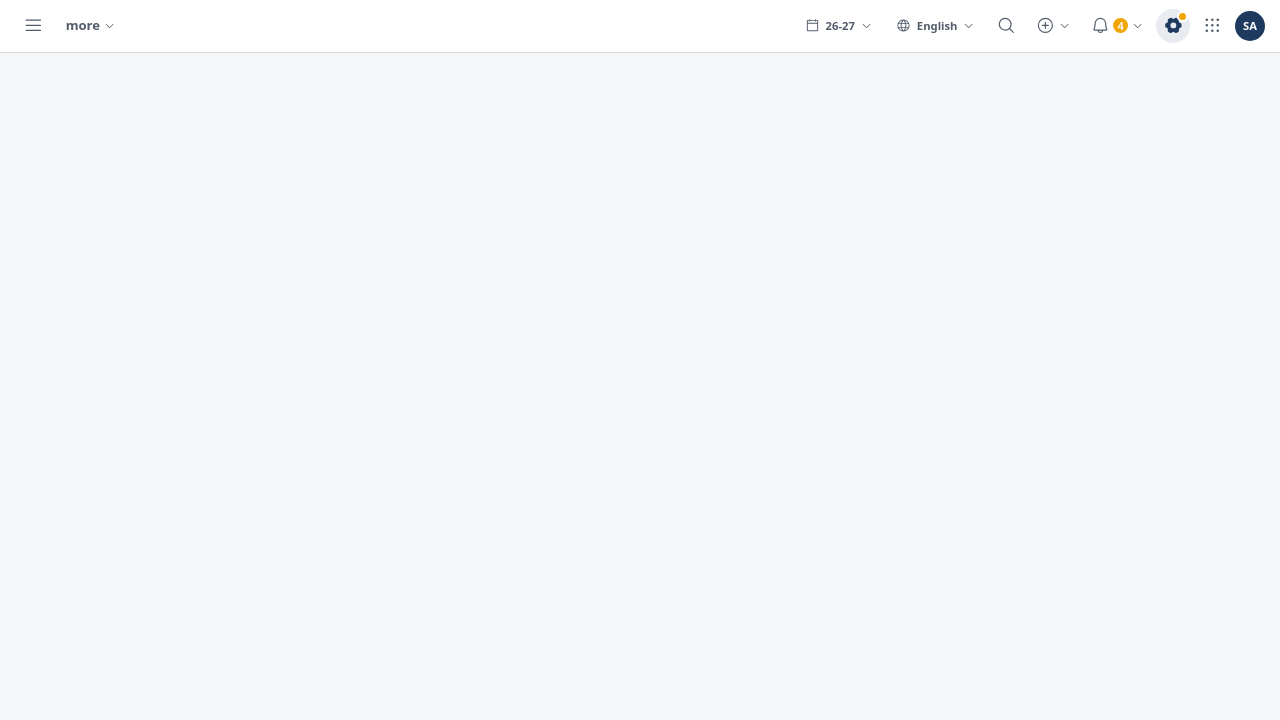
Scenario: Navbar › opens search dialog on quick search button click
Click the button named "Quick search" at (1006, 26), box [989,9,1023,43]
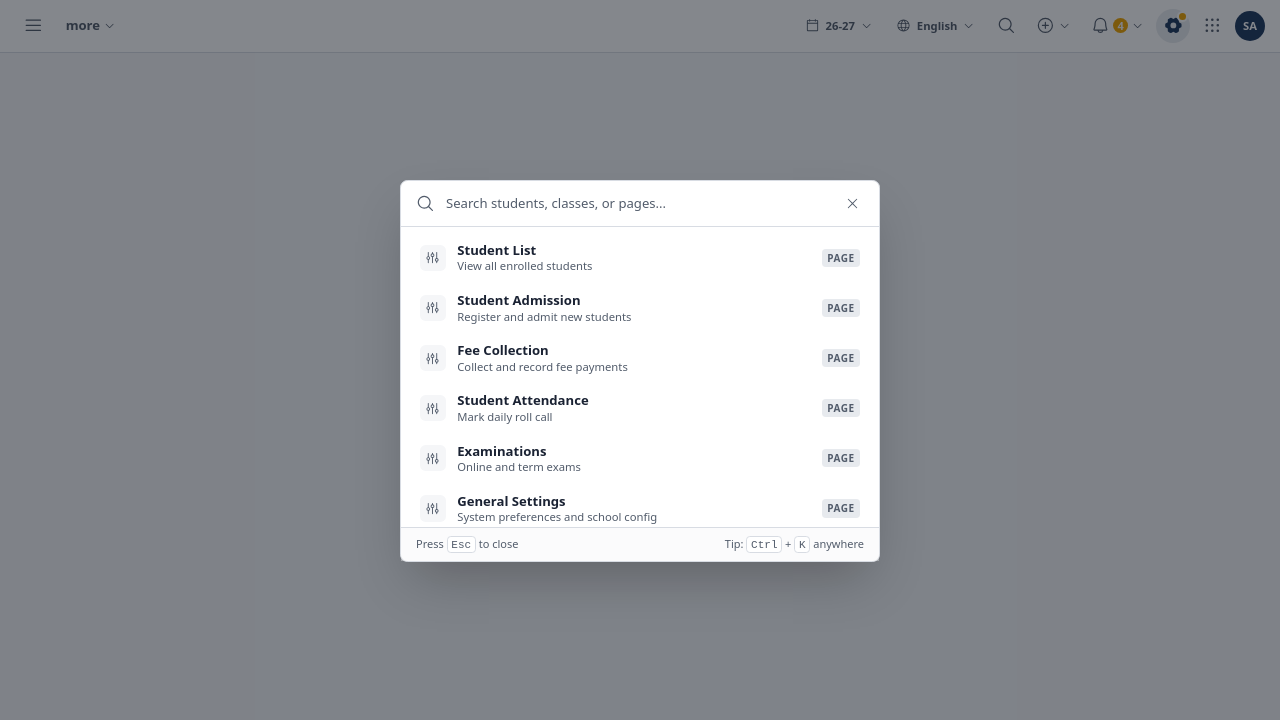
Check: the search field with placeholder "Search students, classes, or pages..." is shown, box [446,194,842,213]
